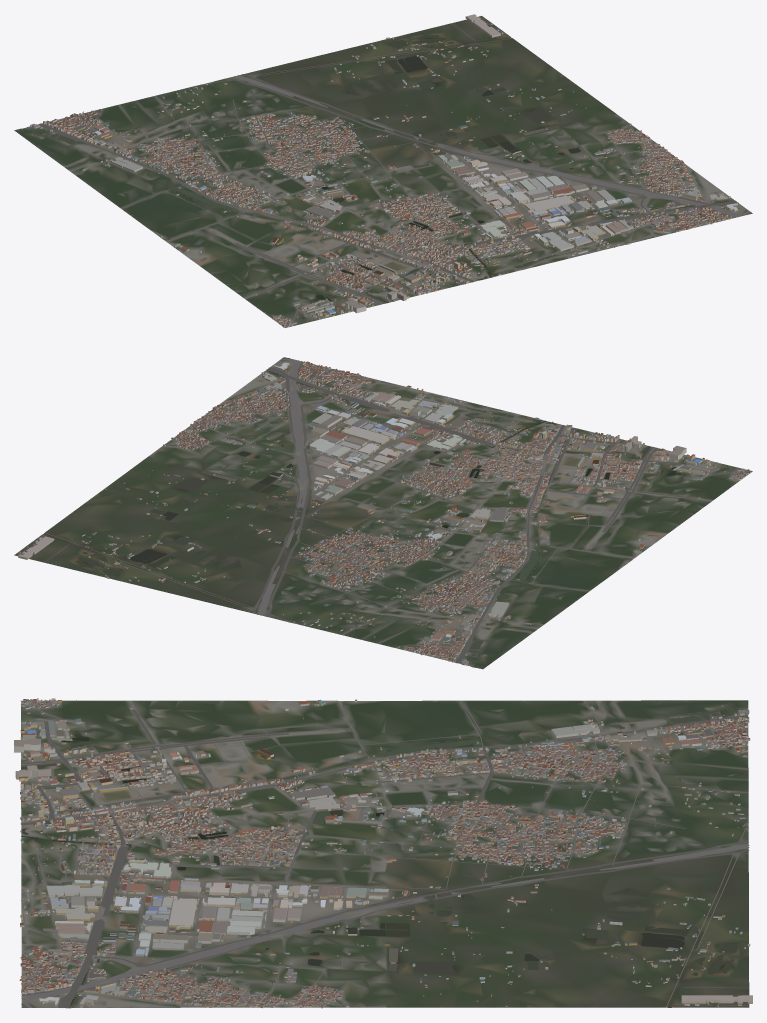
3 renders of one model, top to bottom at view 1: azimuth 30°, elevation 25°; view 2: azimuth 150°, elevation 25°; view 3: azimuth 270°, elevation 25°, orthographic. The views are drawn at different scales.
Visible parts, largest first — view 1: ground, buildings, roads, water; view 2: ground, buildings, roads, water; view 3: ground, buildings, roads, water.
Part boxes in pixels (x1,y1,x2,y2): ground: (14,16,752,327); buildings: (30,14,739,327); roads: (38,16,751,326); water: (25,34,731,310); ground: (14,357,752,669); buildings: (18,361,752,665); roads: (18,358,745,663); water: (45,370,686,666); ground: (21,700,749,1008); buildings: (14,698,752,1008); roads: (20,700,749,1007); water: (21,707,746,1007).
Size of the model in its own units: 2811 by 35.98 by 2848.
